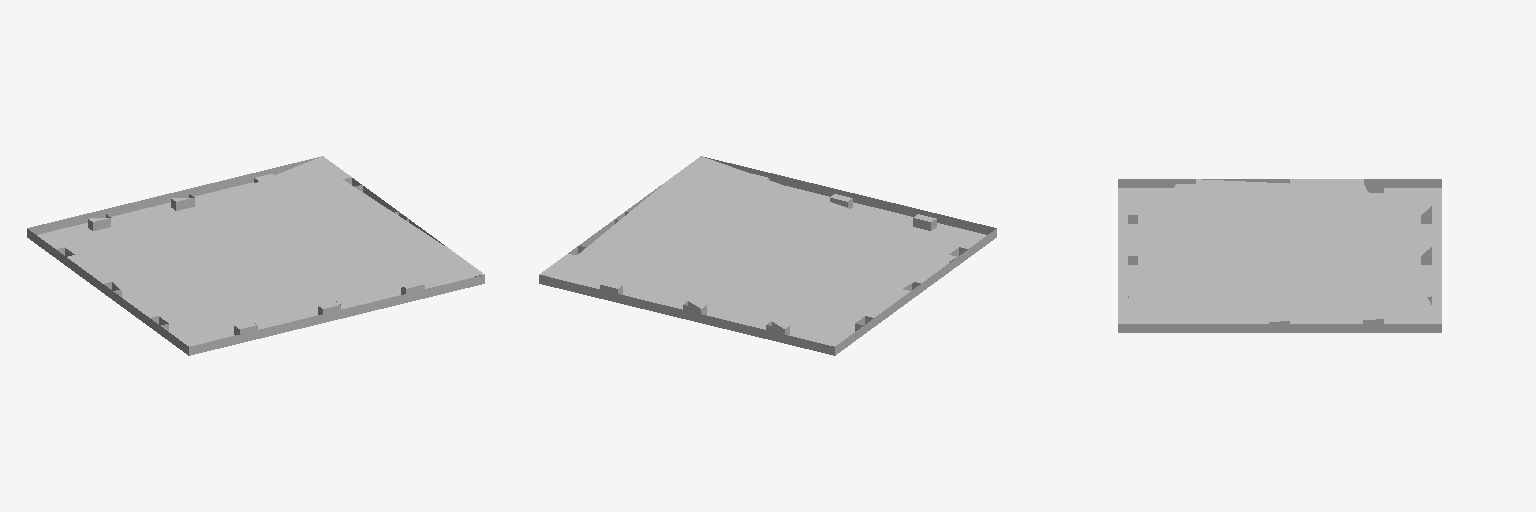
File: bas.obj
3 renders of one model, left to right at view 1: azimuth 30°, elevation 25°; view 2: azimuth 150°, elevation 25°; view 3: azimuth 270°, elevation 25°, orthographic.
Parts seen in each view (by area): view 1: Object.2, Object.3, Object.1; view 2: Object.2, Object.3, Object.1; view 3: Object.2, Object.3, Object.1.
Part boxes in pixels (x1,y1,x2,y2): Object.2: (37, 156, 484, 346); Object.3: (27, 177, 484, 355); Object.1: (27, 156, 455, 333); Object.2: (539, 156, 986, 346); Object.3: (579, 156, 996, 355); Object.1: (539, 178, 967, 355); Object.2: (1118, 179, 1441, 332); Object.3: (1118, 179, 1441, 332); Object.1: (1128, 179, 1431, 332).
Bounding box in the file's own units: 100 × 2.95 × 95.